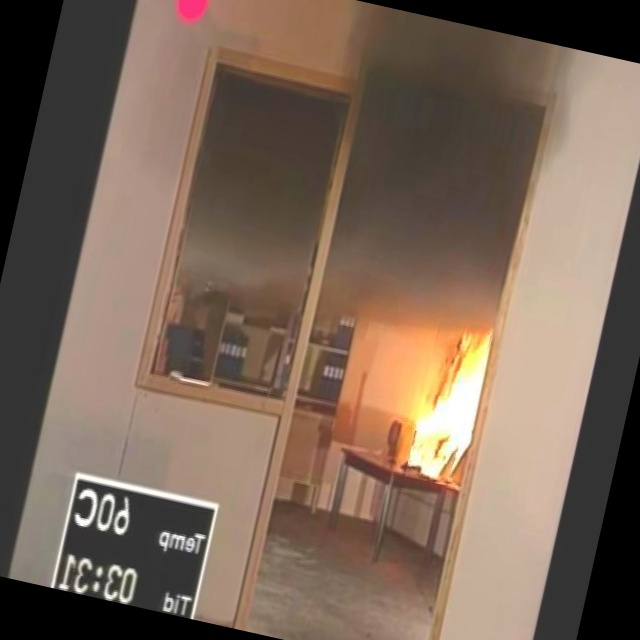fire: (378, 316, 494, 496)
